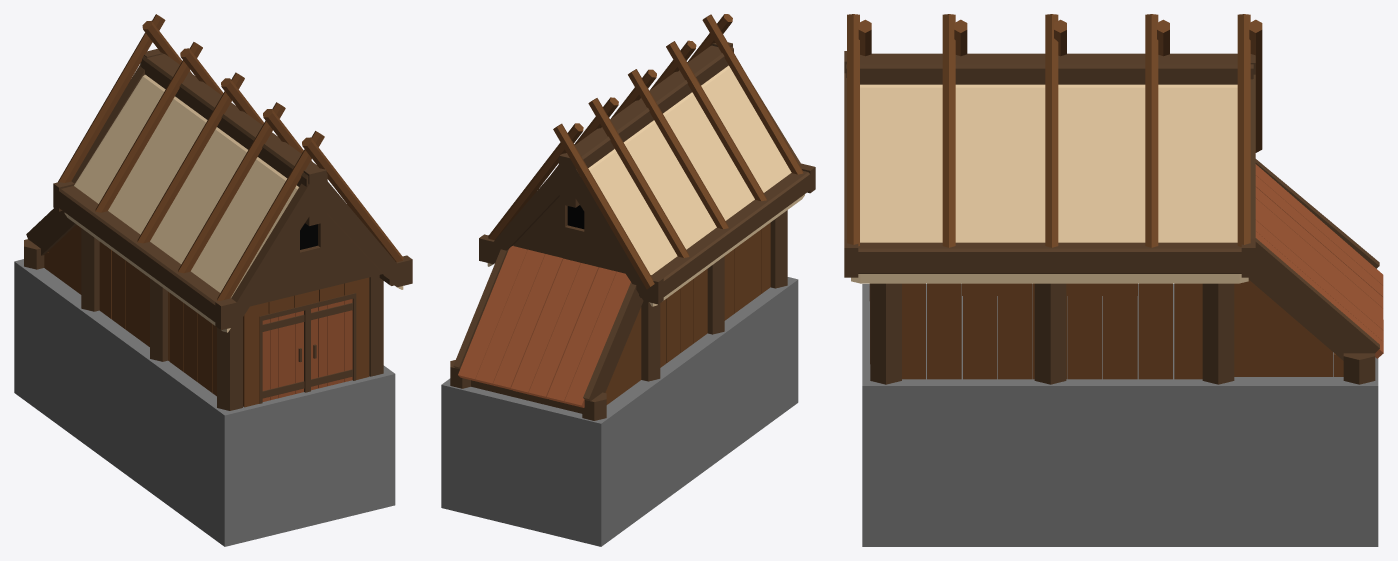
File: House#1.fbx
3 renders of one model, left to right at view 1: azimuth 30°, elevation 25°; view 2: azimuth 150°, elevation 25°; view 3: azimuth 270°, elevation 25°, orthographic. The views are drawn at different scales.
Parts seen in each view (by area): view 1: House#1; view 2: House#1; view 3: House#1.
Boxes of the visible parts, box(x1,y1,x2,y2) form: House#1: box(14, 14, 412, 546); House#1: box(441, 14, 815, 546); House#1: box(844, 14, 1383, 546).
Size of the model in its own units: 1268 by 2479 by 2523.
